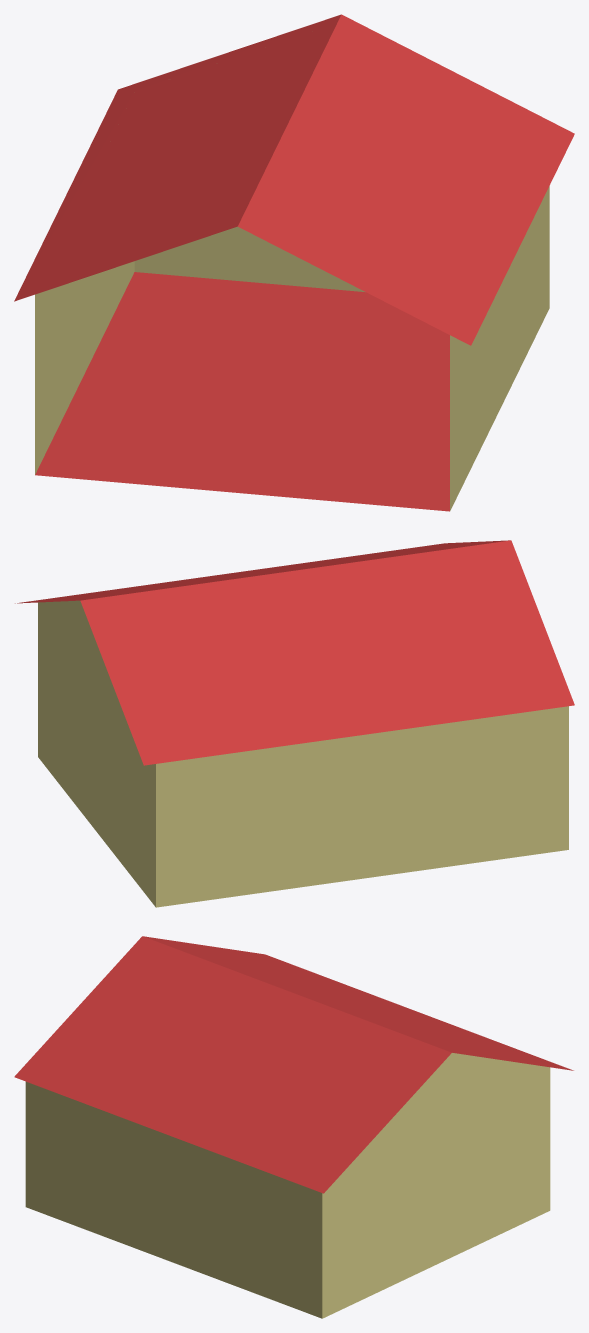
The picture shows the model from 3 angles, top to bottom: view 1: azimuth 30°, elevation 25°; view 2: azimuth 150°, elevation 25°; view 3: azimuth 270°, elevation 25°; orthographic projection. The views are drawn at different scales.
Bounding box in the file's own units: 24.1 × 24.23 × 10.27.
